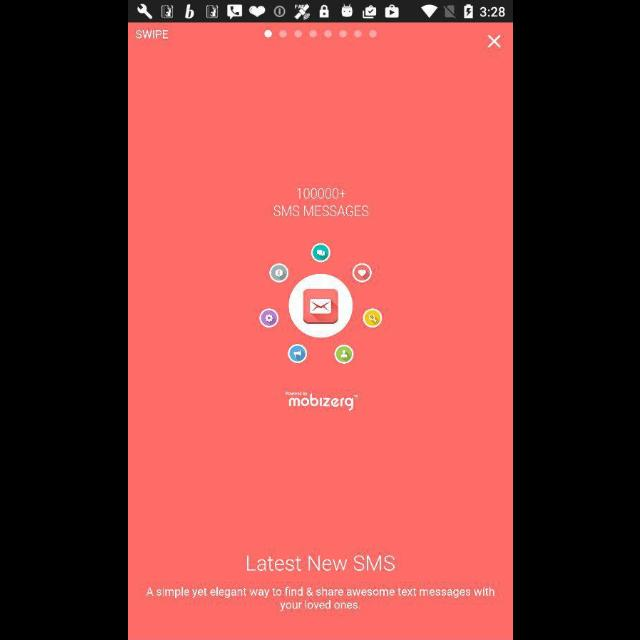icon: (487, 35, 501, 49)
image: (258, 243, 382, 365), (284, 391, 358, 411)
pageindicator: (263, 30, 377, 40)
text: (145, 586, 495, 612), (272, 186, 368, 218), (246, 556, 394, 572), (134, 30, 168, 40)
uppertaskbar: (128, 1, 512, 23)
